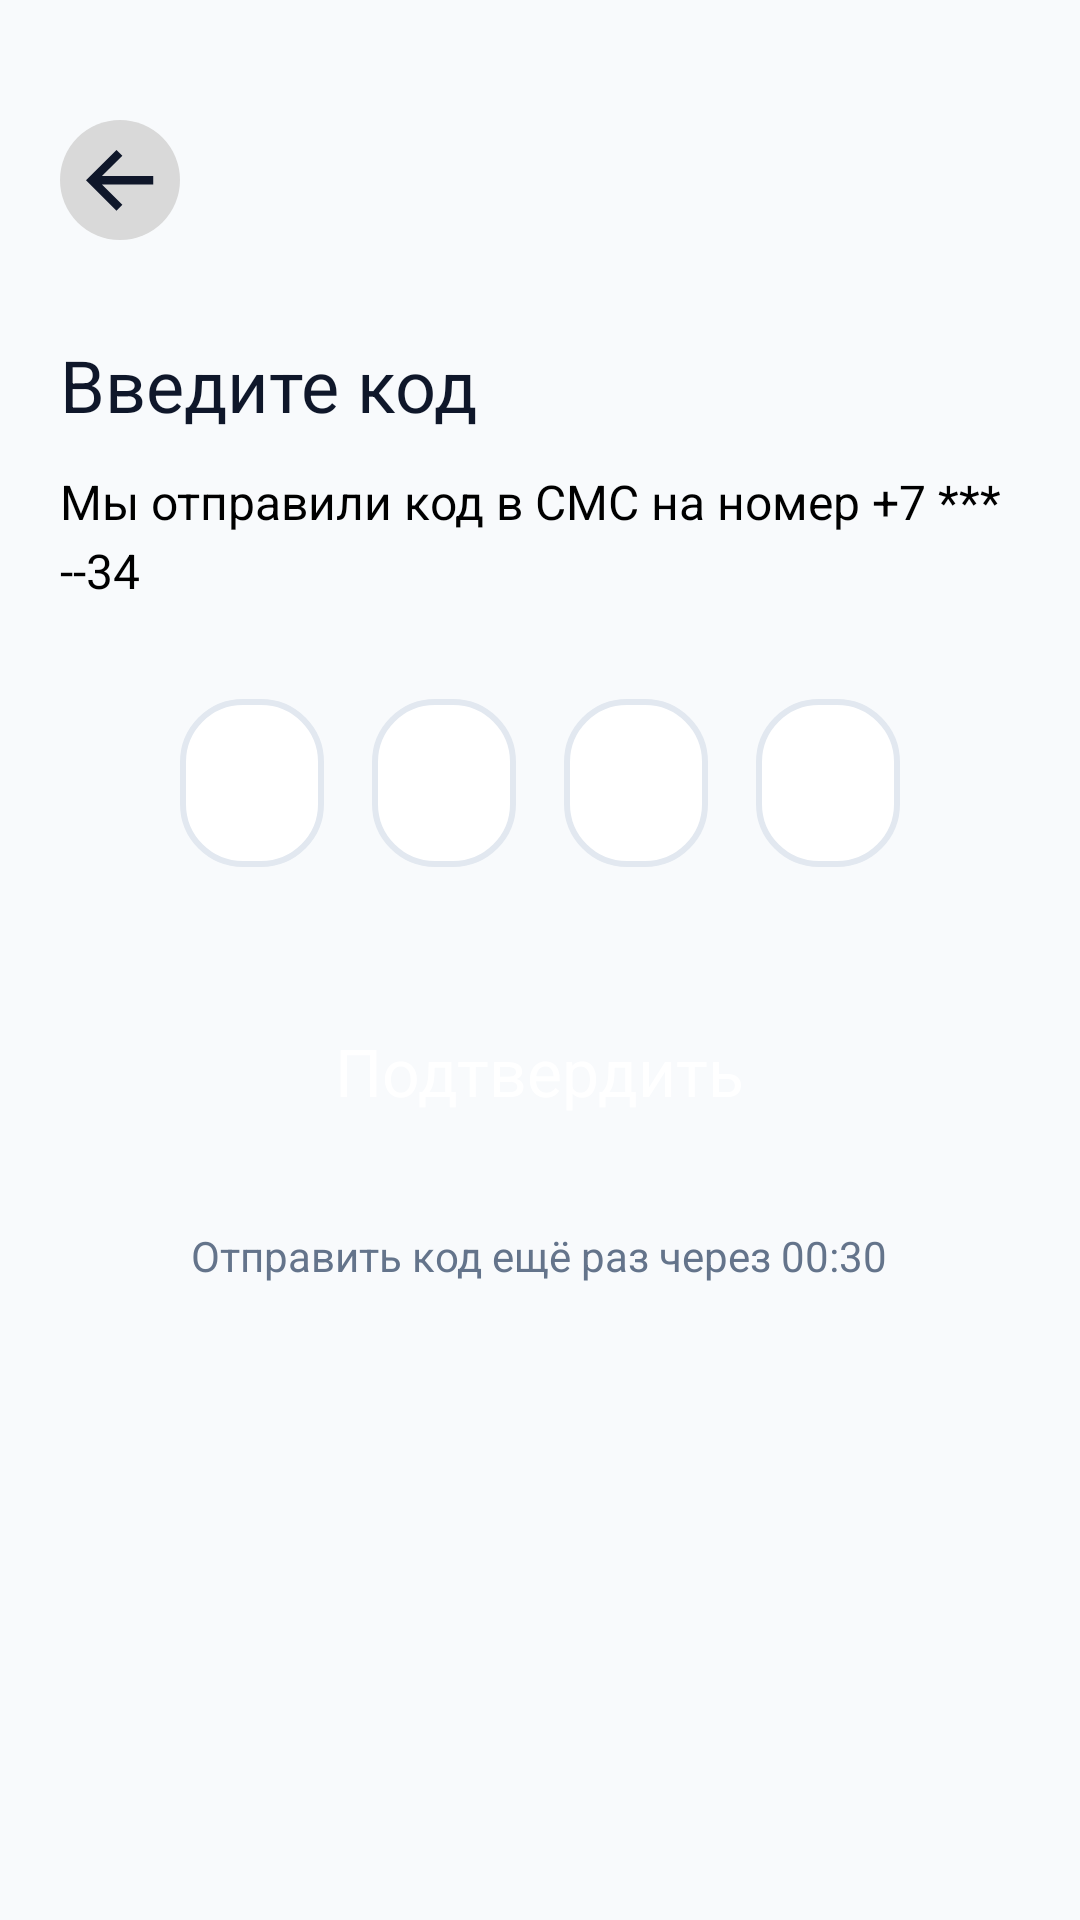

Named icons in this screenshot (1080×1920) and their bounding boxes, (x1, y1, x2, y2):
arrow back: (60, 120, 180, 240)
